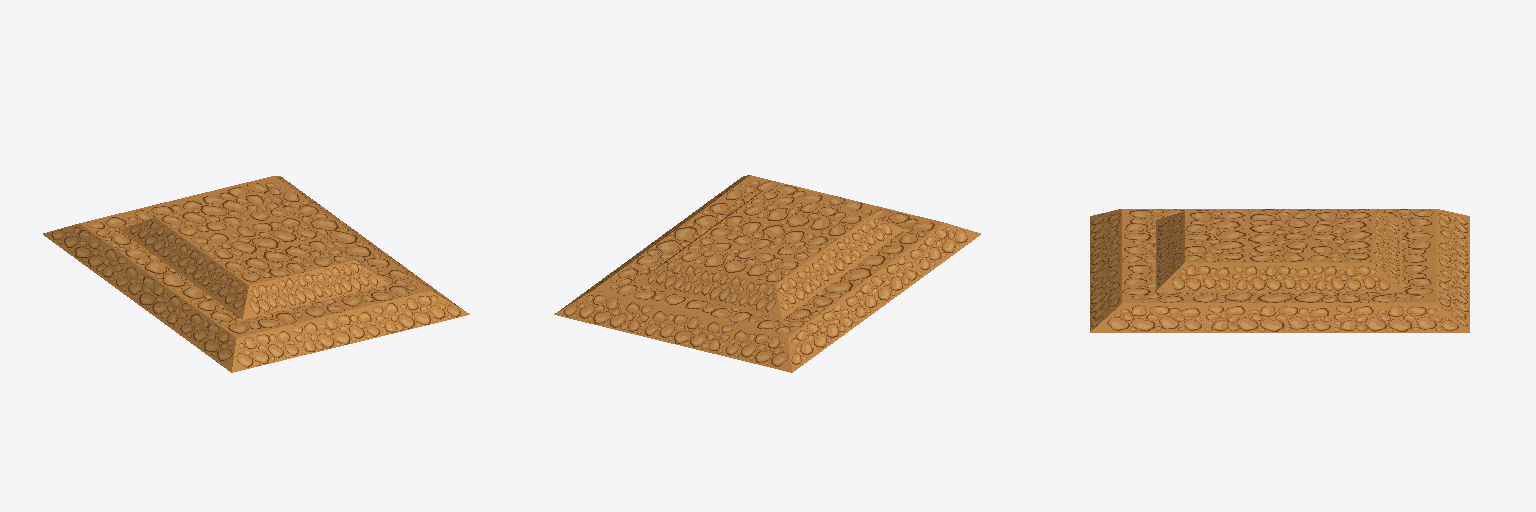
The picture shows the model from 3 angles: view 1: azimuth 30°, elevation 25°; view 2: azimuth 150°, elevation 25°; view 3: azimuth 270°, elevation 25°; orthographic projection.
Parts seen in each view (by area): view 1: Plane; view 2: Plane; view 3: Plane.
Part boxes in pixels (x1,y1,x2,y2): Plane: (43,176,469,372); Plane: (554,175,980,372); Plane: (1090,209,1469,332).
Size of the model in its own units: 2.91 by 0.4282 by 4.02.
Materials: 1 (1 with a texture image).